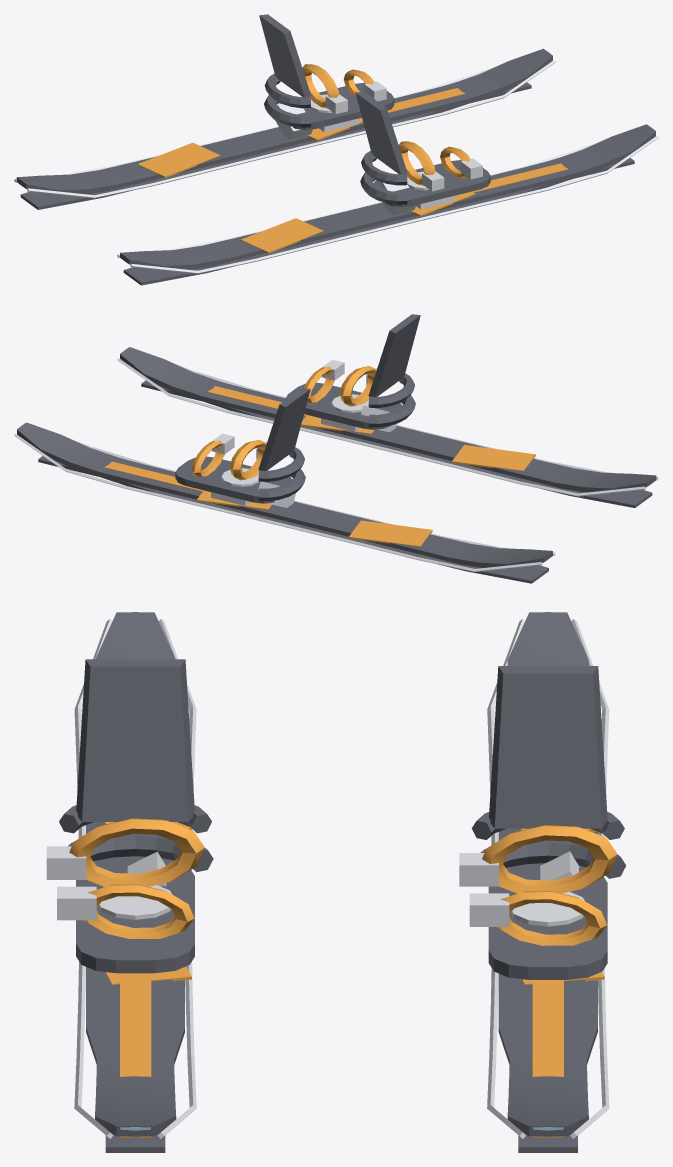
File: backcountry-snowboarding-and-avalanche-safety-splitboa-4b6f48e5__18925.glb
3 views of the same model, one above another, from view 1: azimuth 30°, elevation 25°; view 2: azimuth 150°, elevation 25°; view 3: azimuth 270°, elevation 25° (orthographic). The views are drawn at different scales.
Parts seen in each view (by area): view 1: splitboard-skins-mode; view 2: splitboard-skins-mode; view 3: splitboard-skins-mode.
Boxes of the visible parts, x1,y1,x2,y2 form: splitboard-skins-mode: [14, 14, 658, 285]; splitboard-skins-mode: [14, 314, 658, 583]; splitboard-skins-mode: [46, 612, 626, 1152].
Bounding box in the file's own units: 1.53 × 0.334 × 0.7304.
